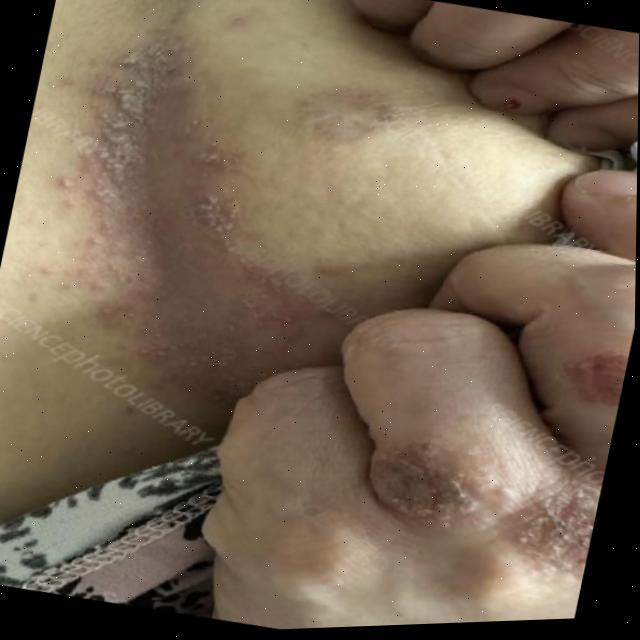Eczema: (33, 0, 368, 429), (338, 415, 608, 614)
